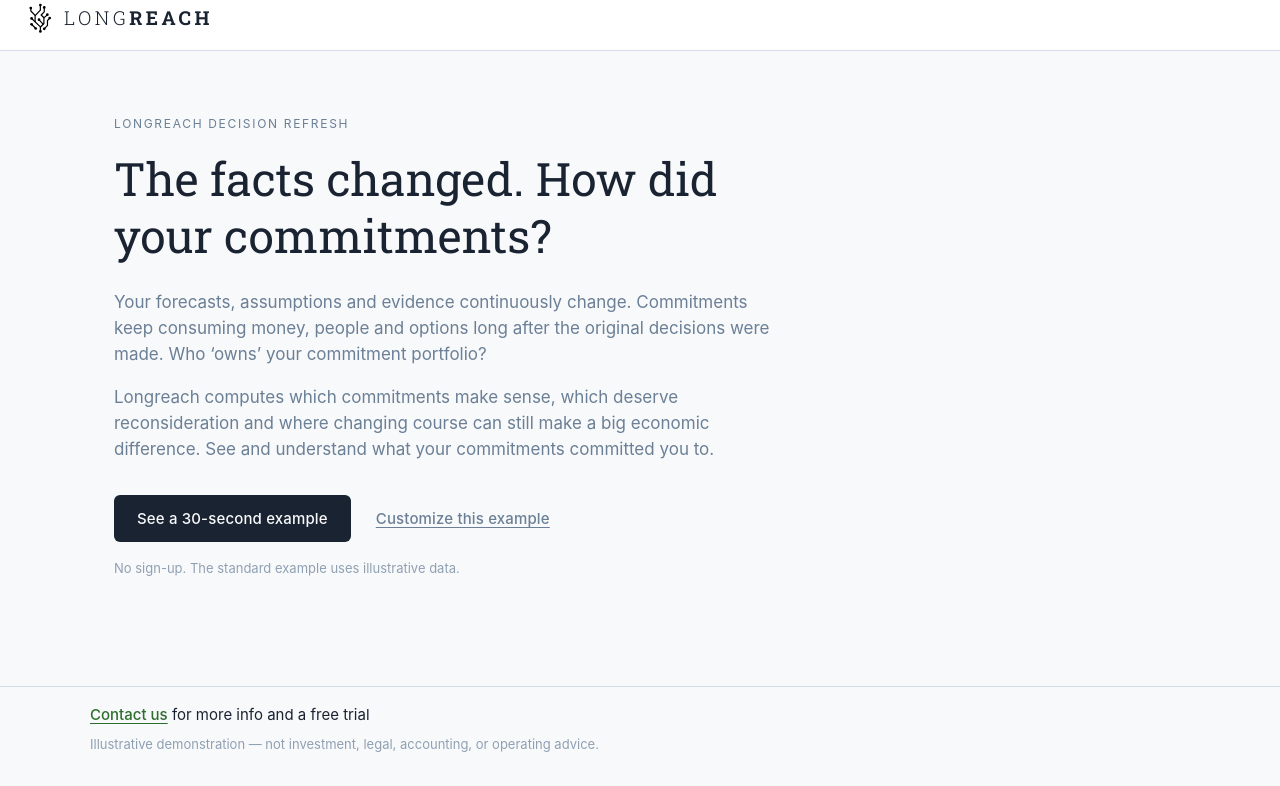
it: C1 intake › requires a commitment type, and says so without blaming anyone
Step 1. Click the button "Customize this example" → (463, 518), box [375,500,551,537]
(page scrolled)
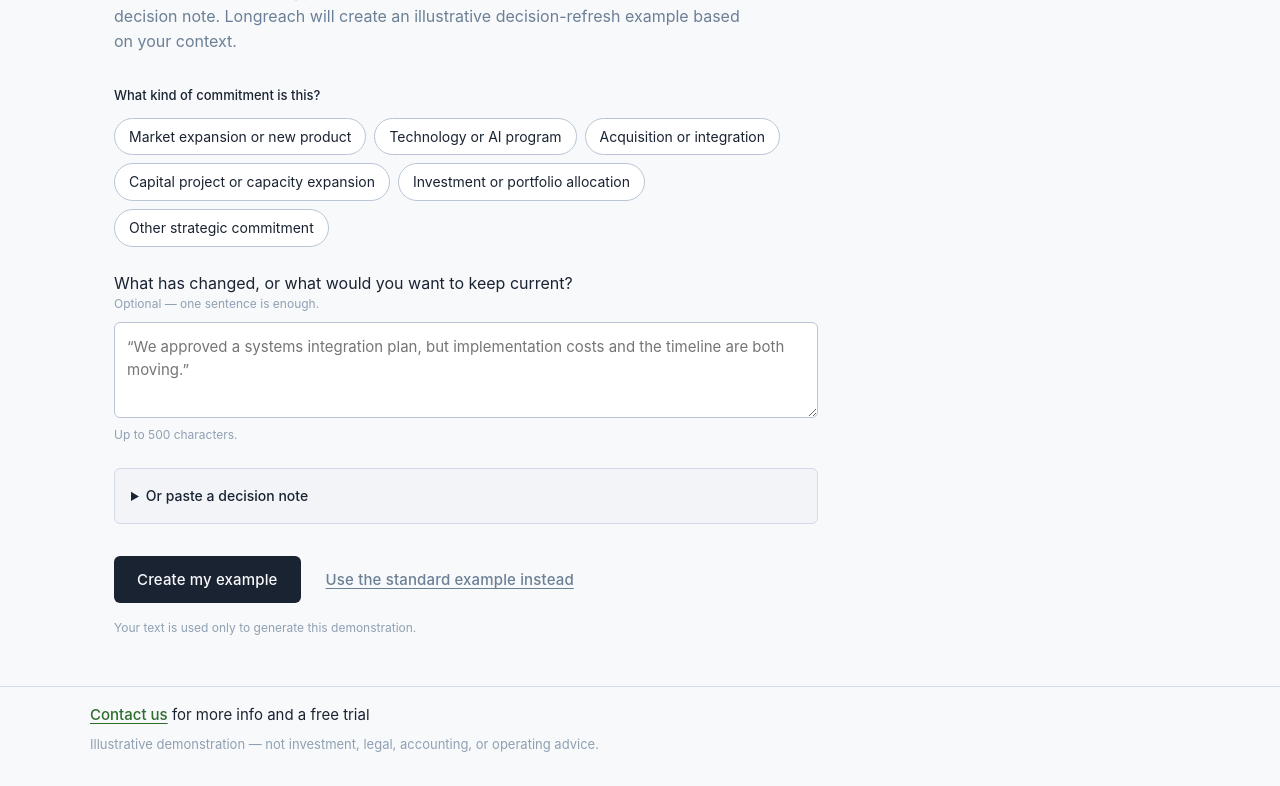
Step 2. Click the button "Create my example" → (207, 580), box [114,556,301,603]
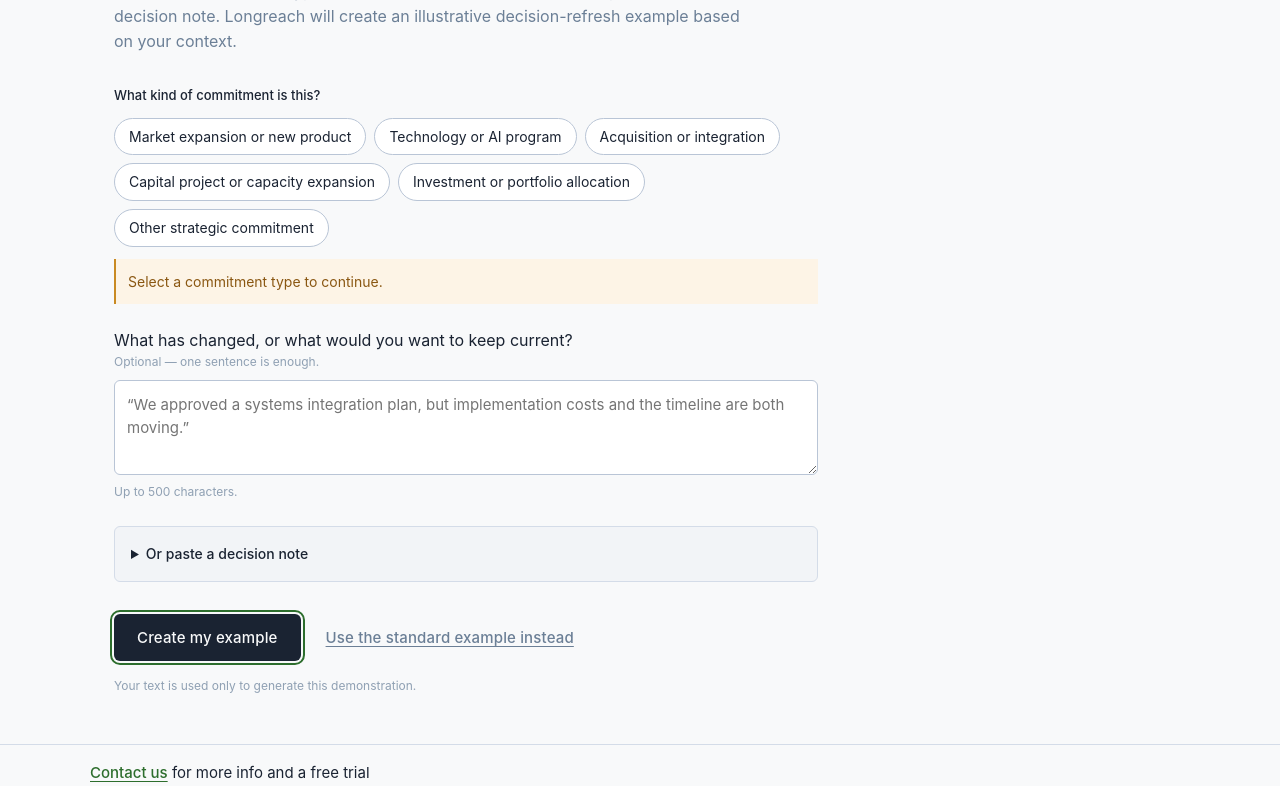
Result: the text "Select a commitment type to continue." is shown at [114,259,818,304]
